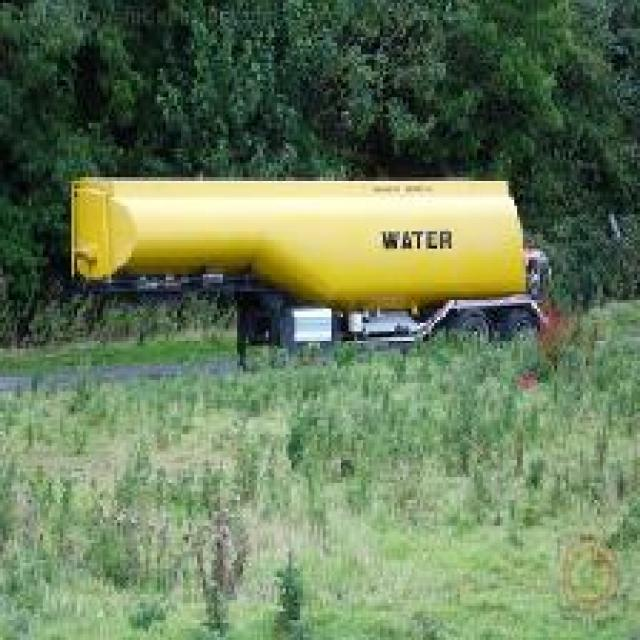16-Wheelers: (66, 172, 560, 372)
